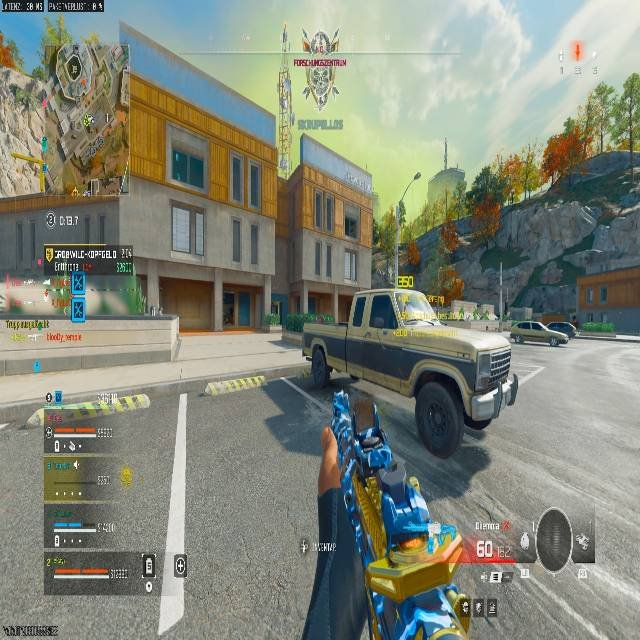player: (223, 309, 232, 326)
